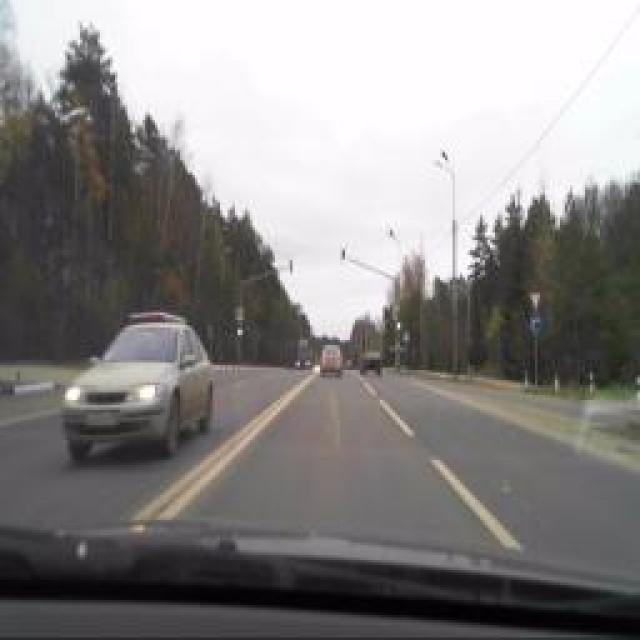sign: (529, 313, 541, 335), (530, 291, 542, 311)
